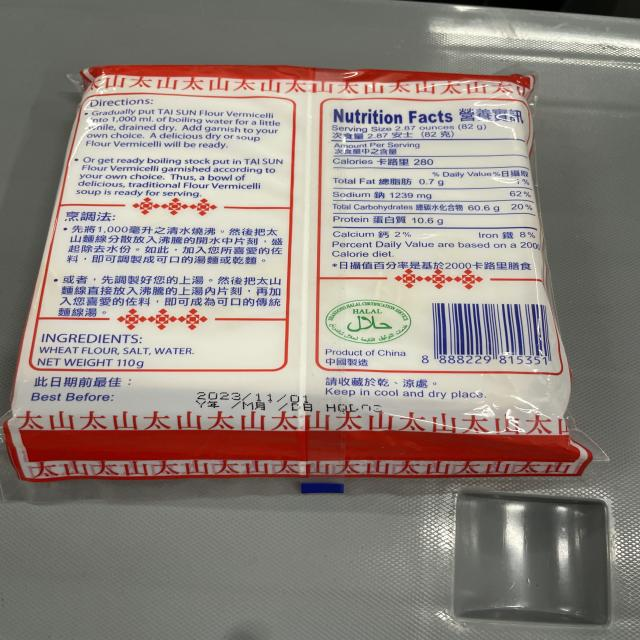object_name: (67, 67, 542, 484)
